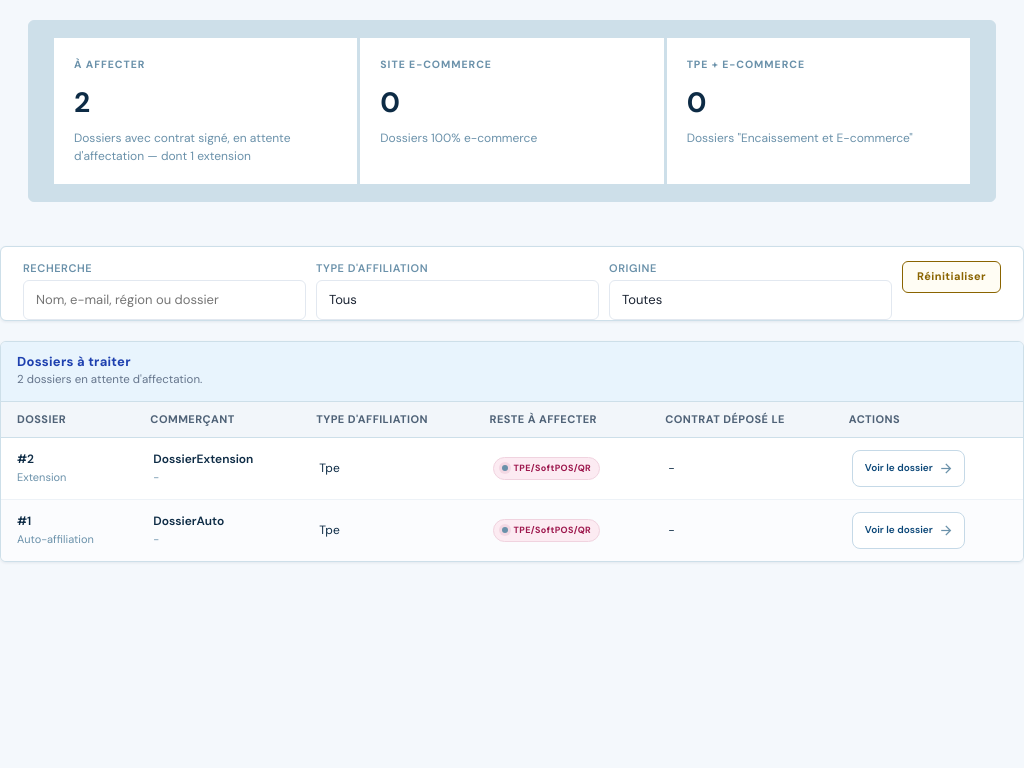
Test: BackofficeTpeToAssignPage › le filtre Origine ne montre que les extensions (NOUVEAU_PDV)
Expected: the text "DossierAuto" is shown, top-left (153, 513), bottom-right (224, 529)
Select "Extension" in the dropdown labelled "Origine" at coordinates (751, 300), box top-left (609, 280), bottom-right (892, 320)
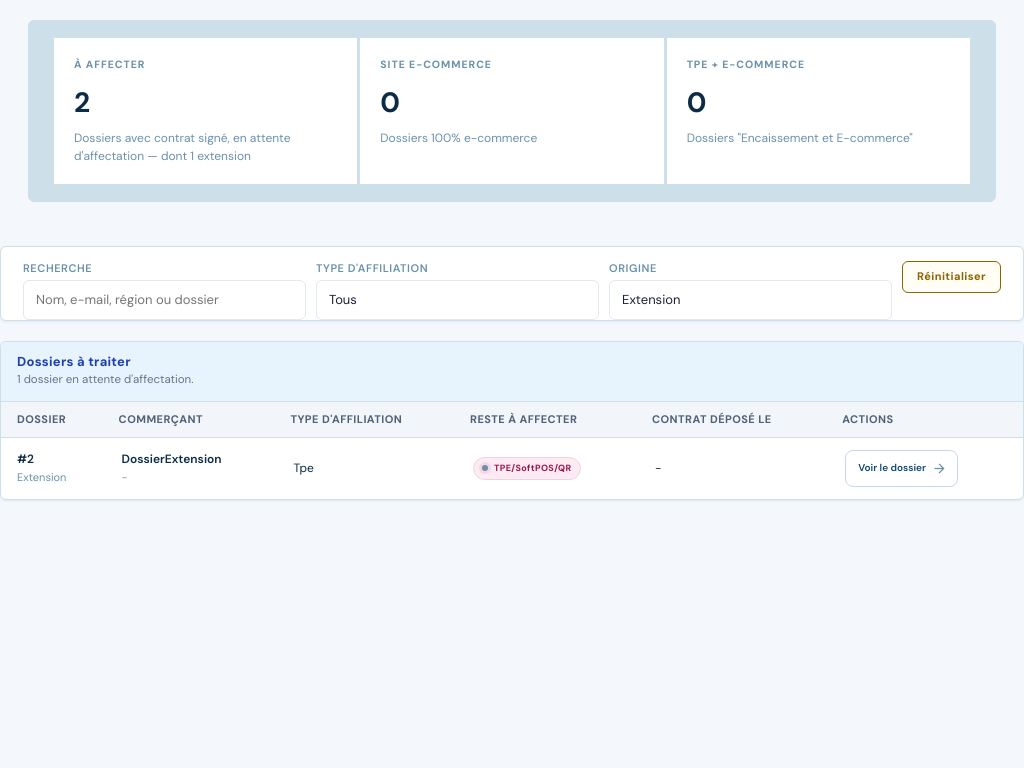
Expected: the text "DossierExtension" is shown, top-left (122, 451), bottom-right (222, 467)
Expected: the text "DossierAuto" is gone
